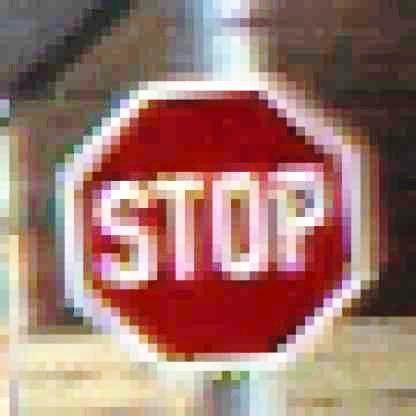Stop Sign: (56, 75, 372, 373)
